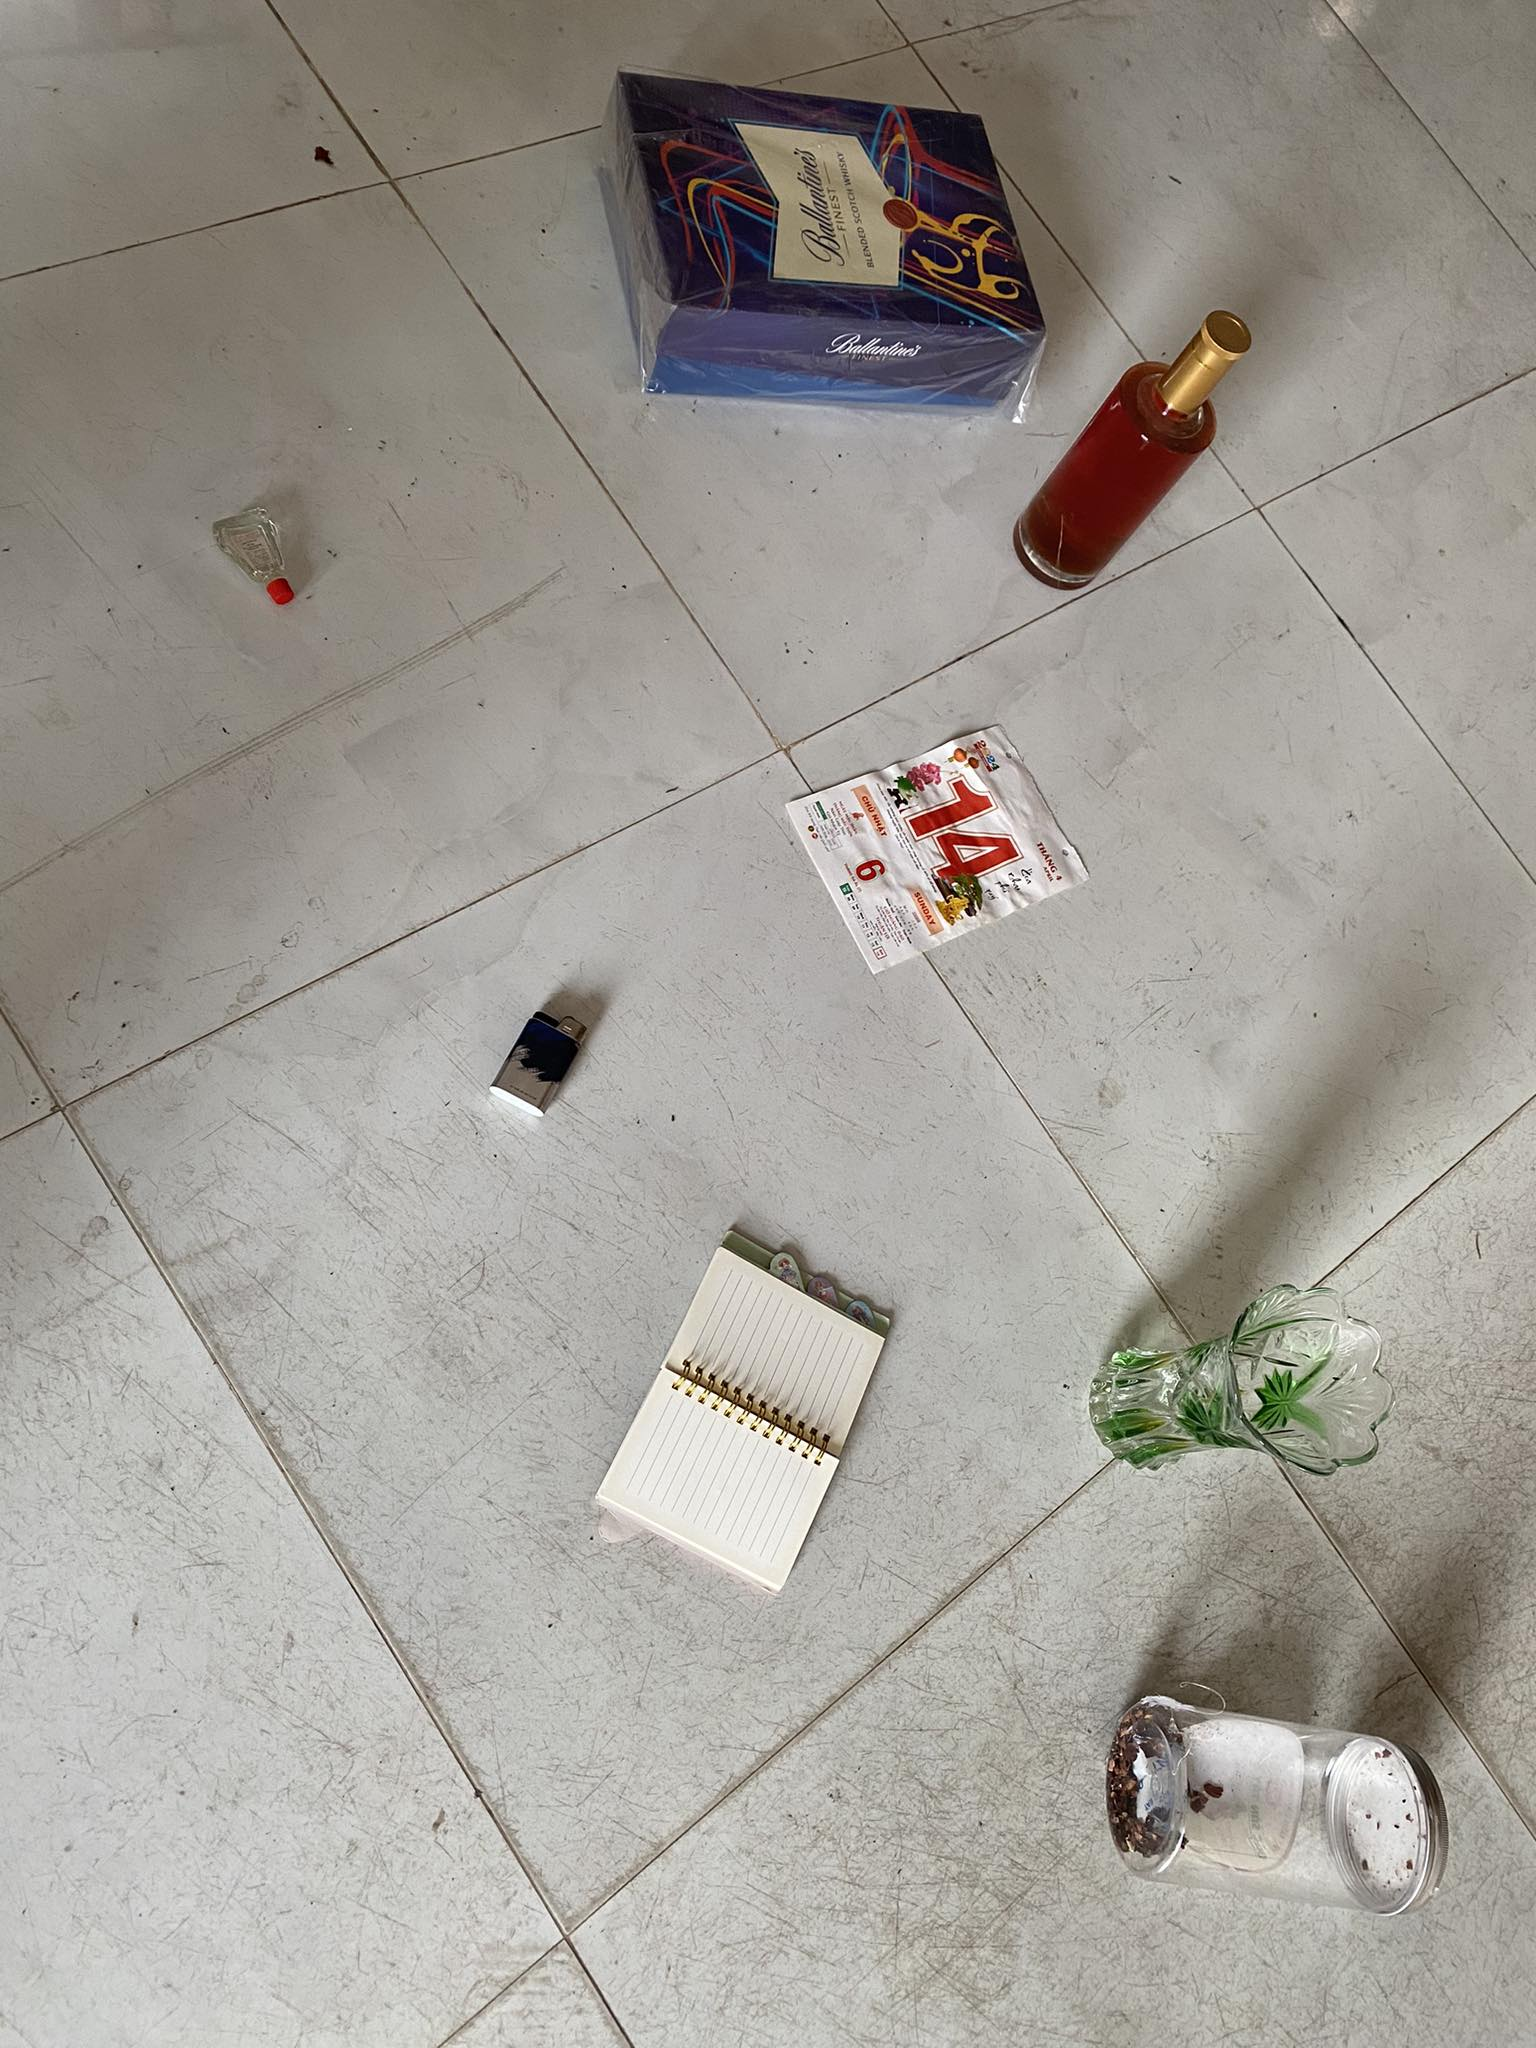cardboard: (479, 31, 1055, 453)
glass: (997, 1287, 1417, 1534), (983, 266, 1249, 627), (163, 476, 350, 643)
paper: (560, 1200, 887, 1595), (720, 711, 1126, 985)
plastic: (1066, 1656, 1470, 1956), (453, 985, 605, 1142)
